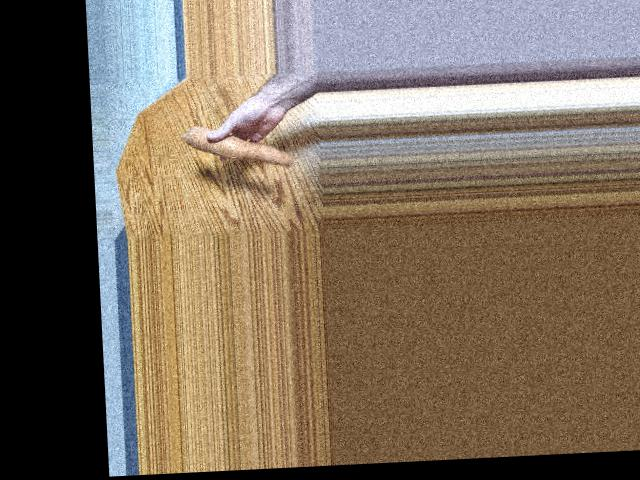sweet_potato: (184, 127, 298, 163)
